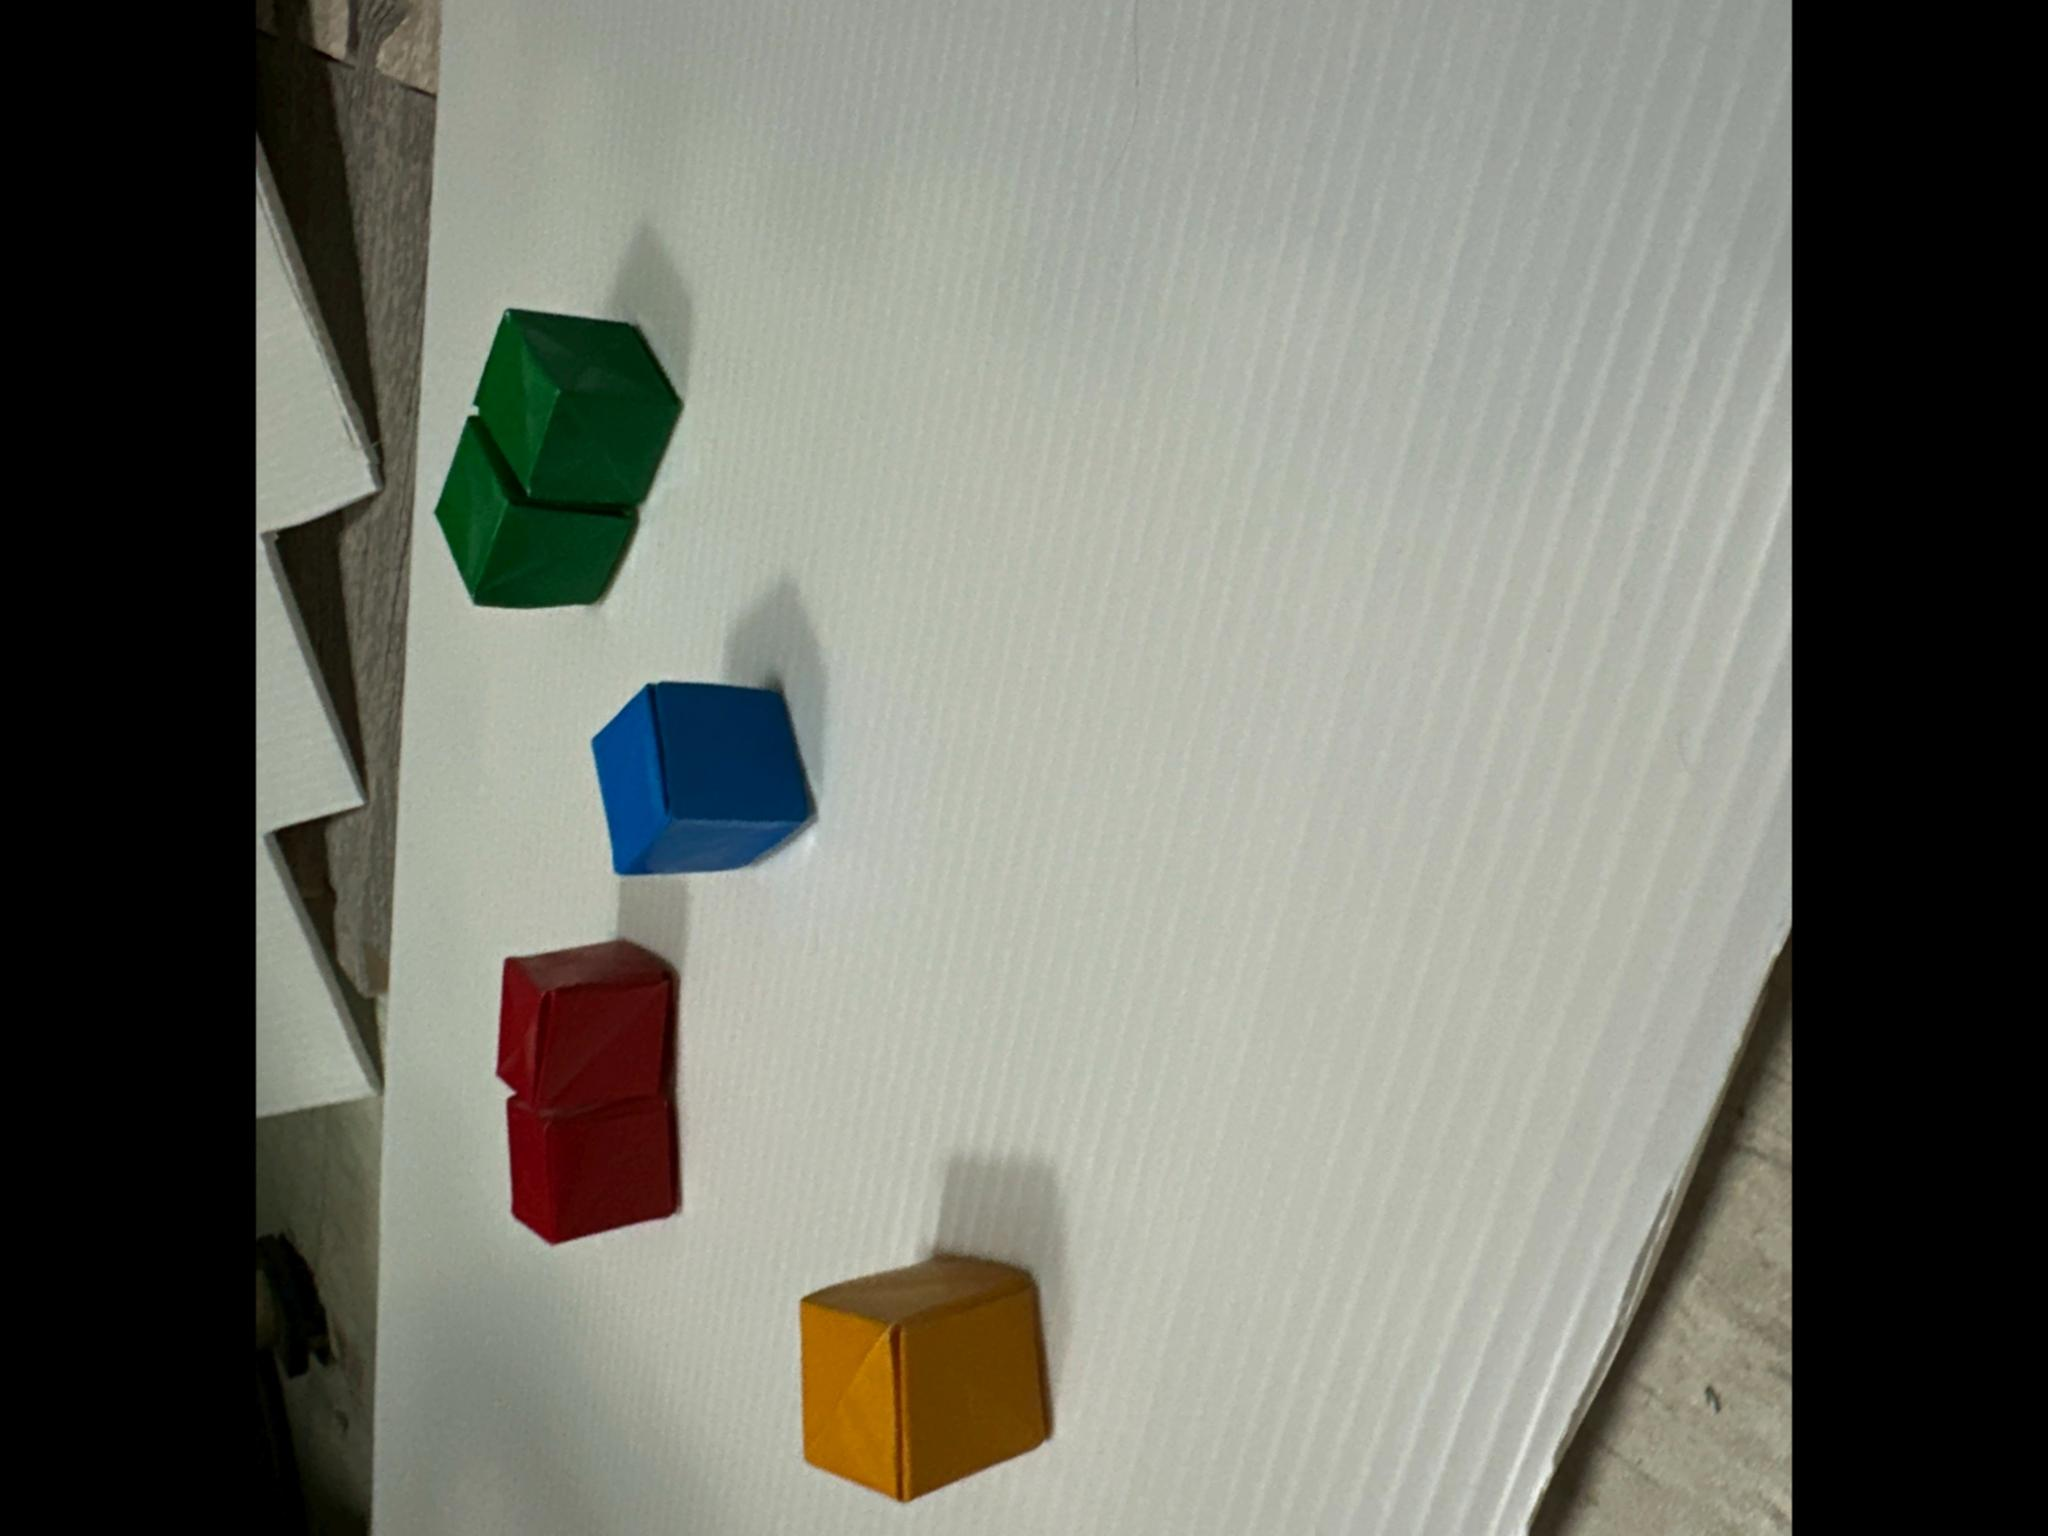base: (801, 1255, 1048, 1501), (593, 681, 810, 874), (477, 308, 679, 503), (435, 415, 632, 607), (497, 941, 672, 1117), (508, 1094, 677, 1242)
